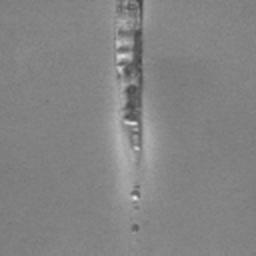Slag inclusion: (112, 0, 146, 156), (128, 184, 144, 206), (132, 224, 140, 232)
